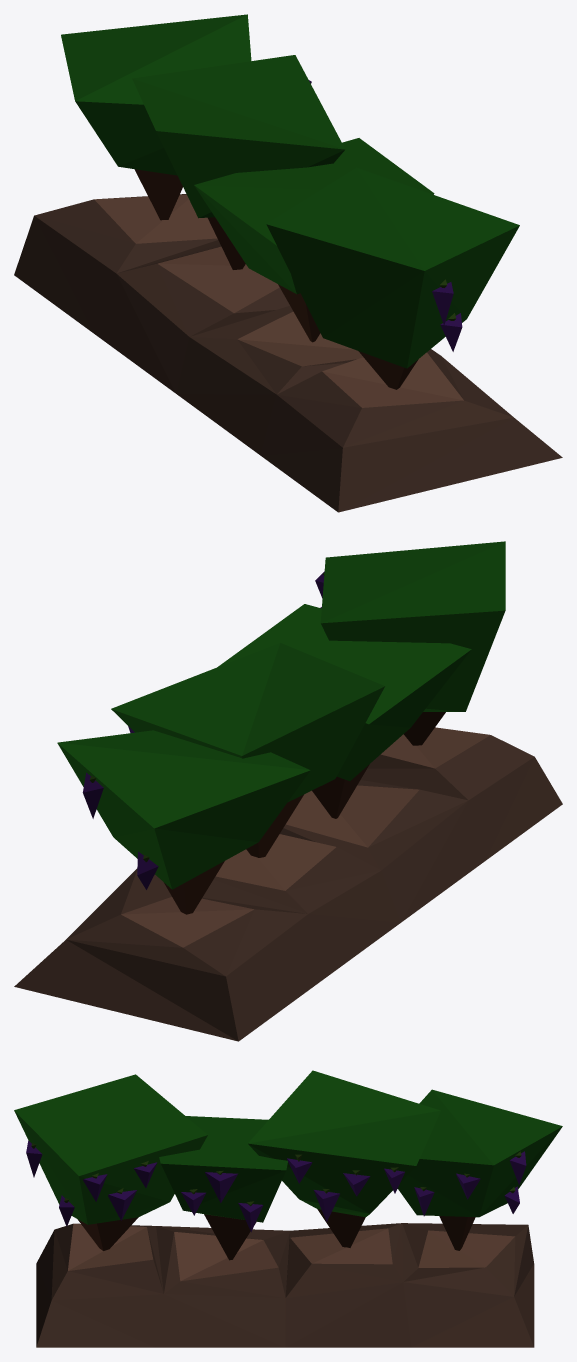
The model's file is c_crop_vineyard_aa.fbx.
3 renders of one model, top to bottom at view 1: azimuth 30°, elevation 25°; view 2: azimuth 150°, elevation 25°; view 3: azimuth 270°, elevation 25°, orthographic. The views are drawn at different scales.
Parts seen in each view (by area): view 1: c_crop_vineyard_aa; view 2: c_crop_vineyard_aa; view 3: c_crop_vineyard_aa.
Part boxes in pixels (left/top/right/bottom): c_crop_vineyard_aa: left=14, top=14, right=562, bottom=512; c_crop_vineyard_aa: left=14, top=541, right=562, bottom=1041; c_crop_vineyard_aa: left=14, top=1070, right=562, bottom=1347.
Size of the model in its own units: 2.07 by 2.13 by 5.51.
